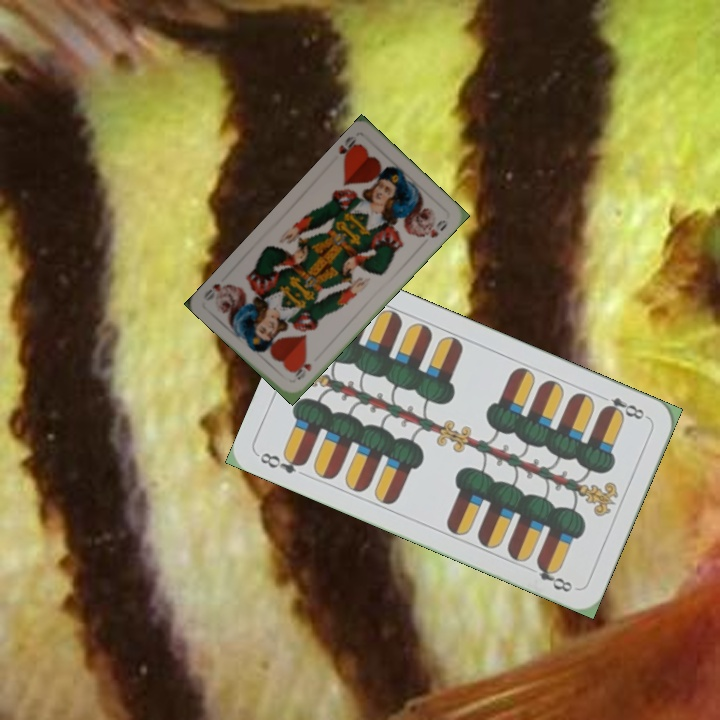E8: (595, 391, 651, 422), (255, 448, 309, 477)
HO: (334, 132, 364, 166), (290, 359, 314, 383)
